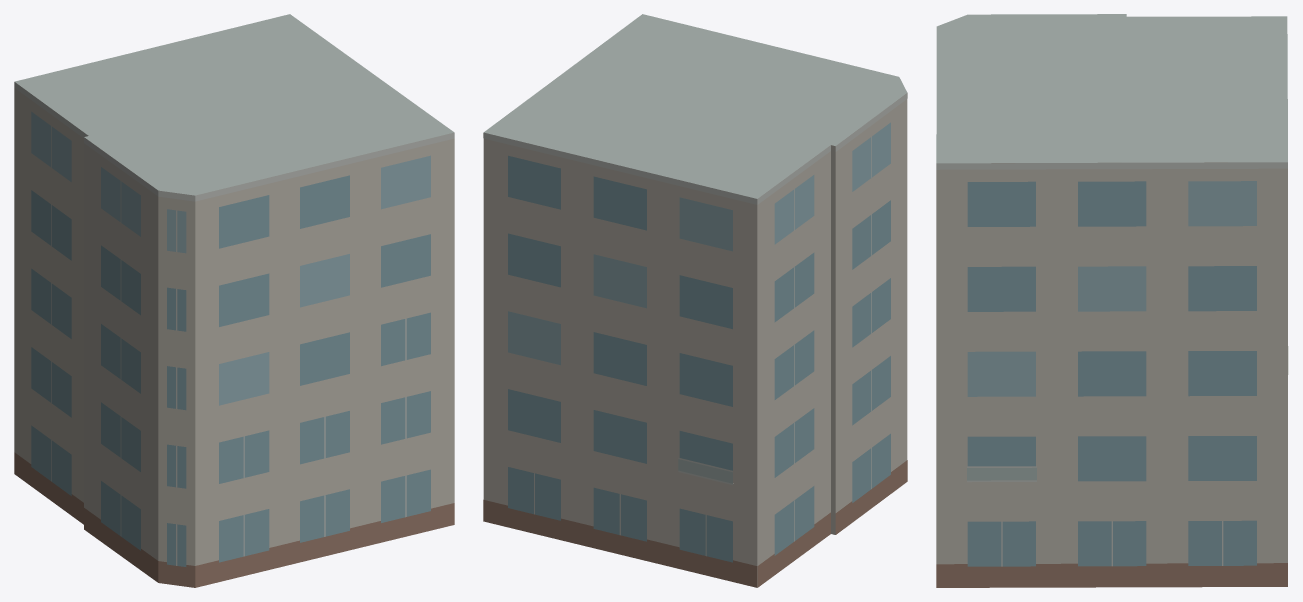
Rendered from survey-upis-32638171.glb.
3 views of the same model, side by side, from view 1: azimuth 30°, elevation 25°; view 2: azimuth 150°, elevation 25°; view 3: azimuth 270°, elevation 25° (orthographic). The views are drawn at different scales.
Parts seen in each view (by area): view 1: survey-upis-32638171.tmp; view 2: survey-upis-32638171.tmp; view 3: survey-upis-32638171.tmp.
Boxes of the visible parts, x1,y1,x2,y2 form: survey-upis-32638171.tmp: [14, 14, 454, 587]; survey-upis-32638171.tmp: [483, 14, 907, 587]; survey-upis-32638171.tmp: [936, 14, 1288, 587].
Size of the model in its own units: 11.99 by 15.85 by 11.93.
